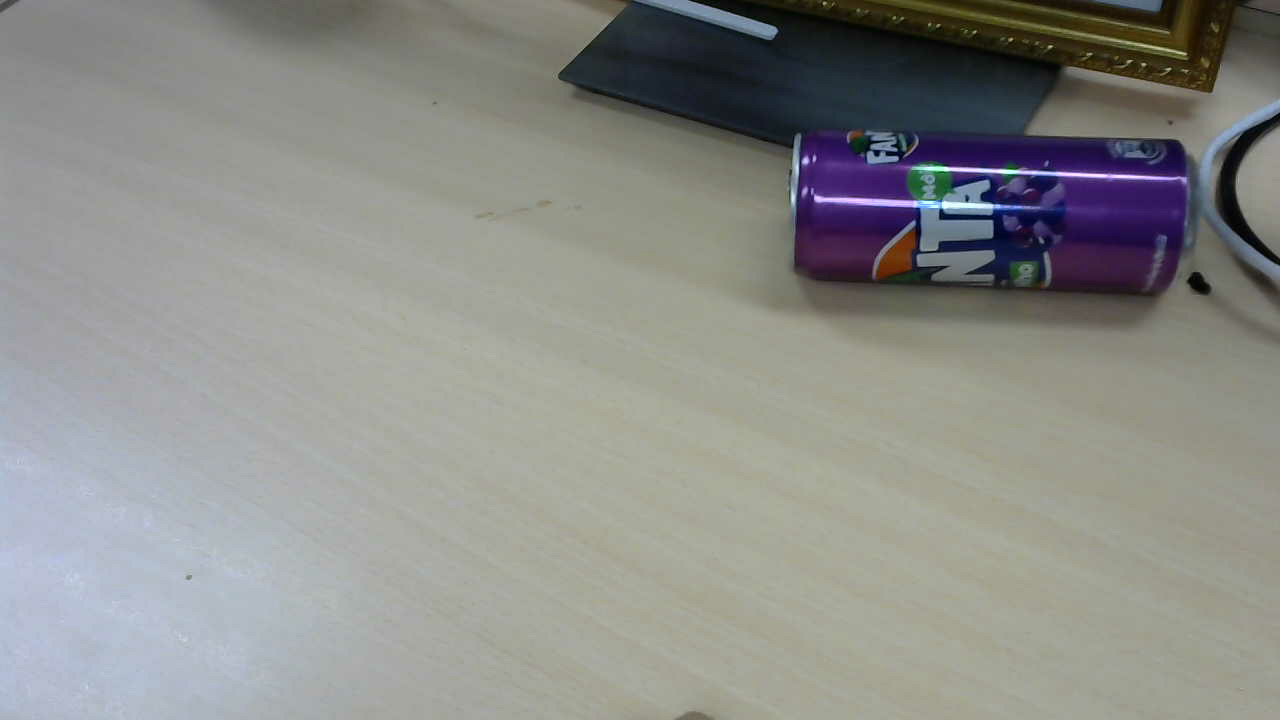Fanta: (791, 129, 1195, 308)
